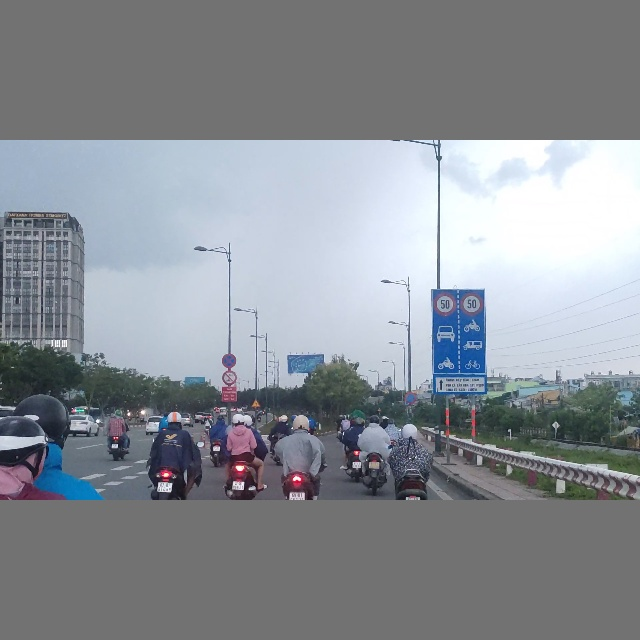P.111: (223, 370, 237, 385)
P.127*50: (432, 290, 457, 316), (459, 290, 485, 315)
P.130: (222, 354, 237, 368)
P.131a: (405, 392, 417, 404)
R.415a: (432, 316, 486, 374)
W.201a: (252, 398, 260, 407)
